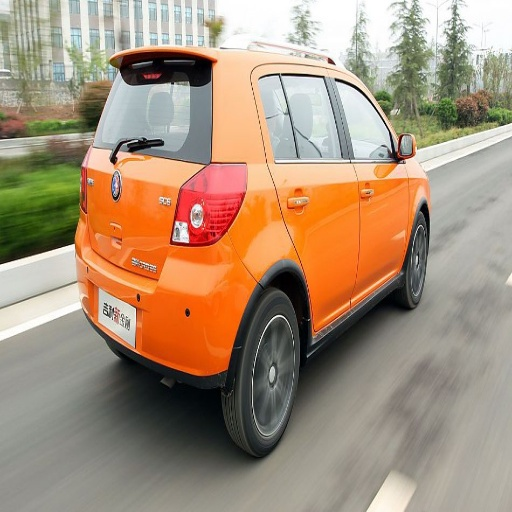back_bumper: (81, 223, 257, 385)
back_right_door: (256, 70, 359, 319)
trunk: (88, 146, 207, 327)
